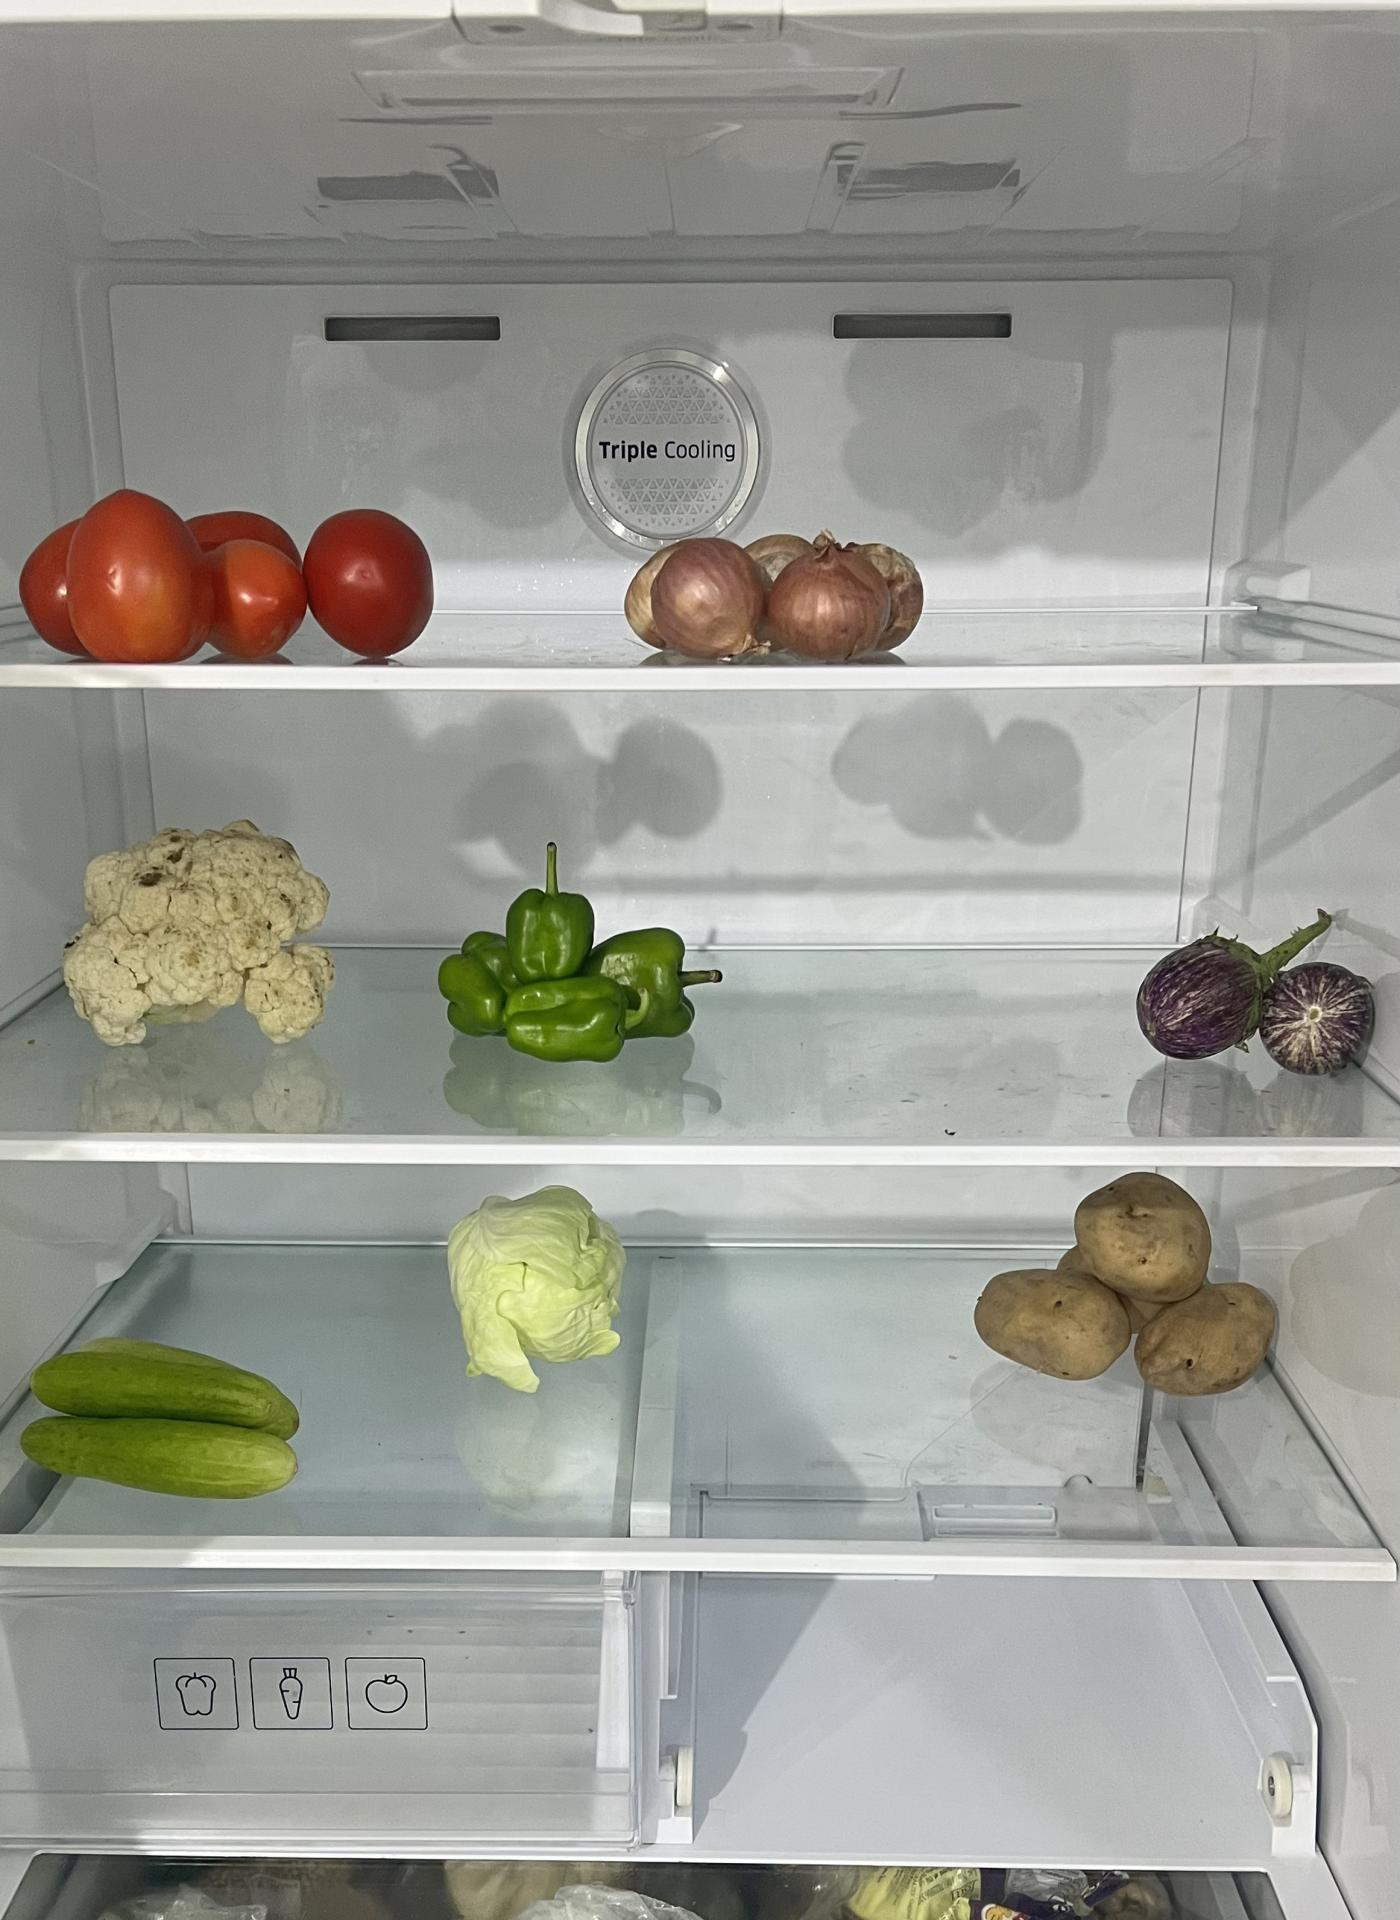brinjal: (1123, 888, 1387, 1085)
cabbage: (452, 1190, 632, 1391)
capsicum: (444, 881, 716, 1064)
cauliflower: (63, 817, 335, 1038)
cucumber: (12, 1340, 310, 1497)
onion: (625, 529, 924, 662)
potato: (978, 1170, 1284, 1397)
tomato: (15, 495, 438, 668)
